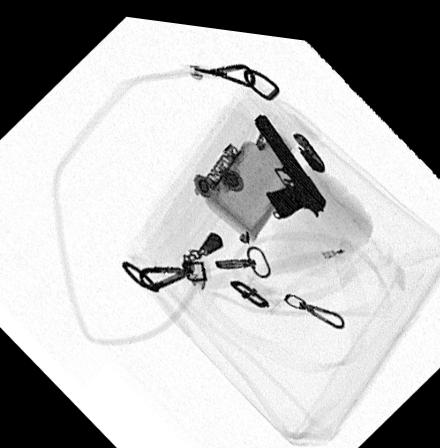Gun: (254, 105, 328, 210)
